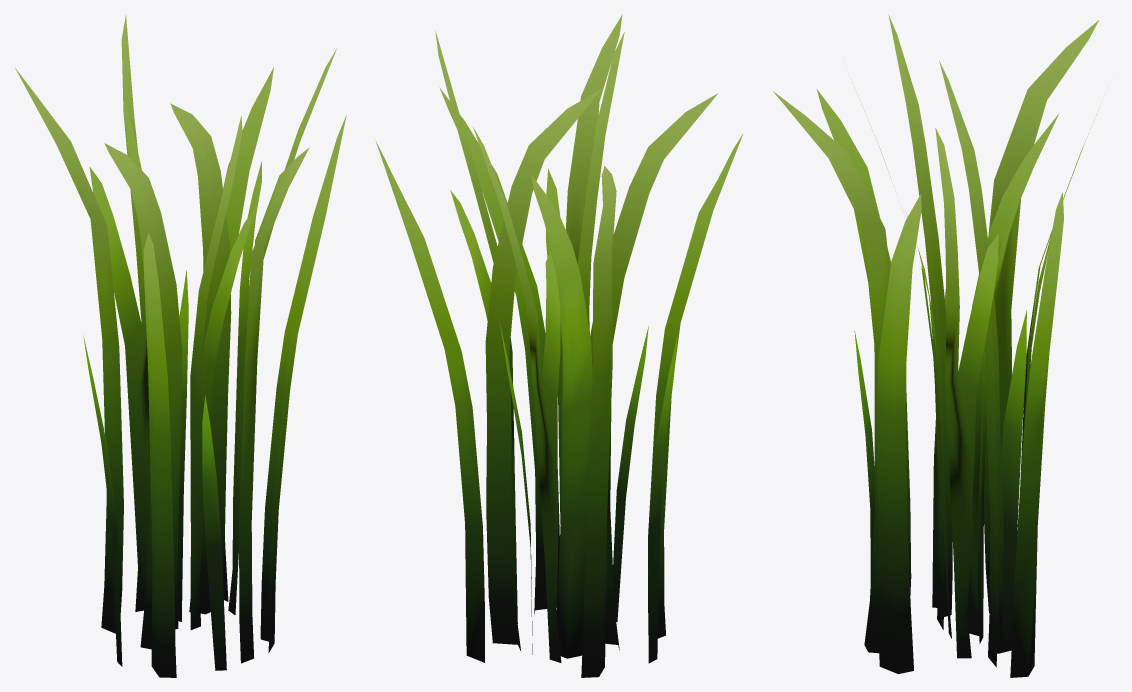
Rendered from rumput-kecil.glb.
The picture shows the model from 3 angles, left to right: view 1: azimuth 30°, elevation 25°; view 2: azimuth 150°, elevation 25°; view 3: azimuth 270°, elevation 25°; orthographic projection. The views are drawn at different scales.
Visible parts, largest first — view 1: Grass_Common_Tall; view 2: Grass_Common_Tall; view 3: Grass_Common_Tall.
Boxes of the visible parts, x1,y1,x2,y2 form: Grass_Common_Tall: [15, 15, 346, 677]; Grass_Common_Tall: [375, 14, 743, 677]; Grass_Common_Tall: [773, 15, 1101, 677].
Size of the model in its own units: 0.4302 by 0.9 by 0.4773.
Materials: 1 (1 with a texture image).
